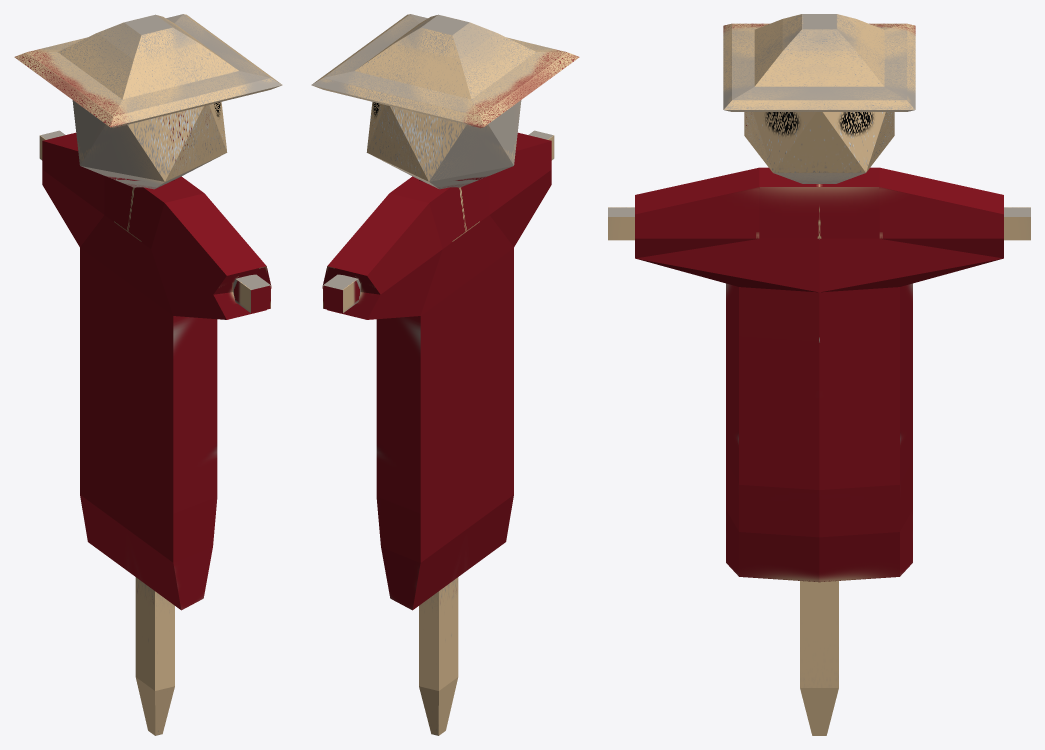
File: scarecrow.fbx
3 renders of one model, left to right at view 1: azimuth 30°, elevation 25°; view 2: azimuth 150°, elevation 25°; view 3: azimuth 270°, elevation 25°, orthographic.
Visible parts, largest first — view 1: scarecrow; view 2: scarecrow; view 3: scarecrow.
Part boxes in pixels (box(x1,y1,x2,y2)): scarecrow: box(14, 14, 282, 735); scarecrow: box(311, 14, 579, 735); scarecrow: box(608, 14, 1030, 735).
Size of the model in its own units: 613 by 2403 by 1299.
Materials: 1 (1 with a texture image).
